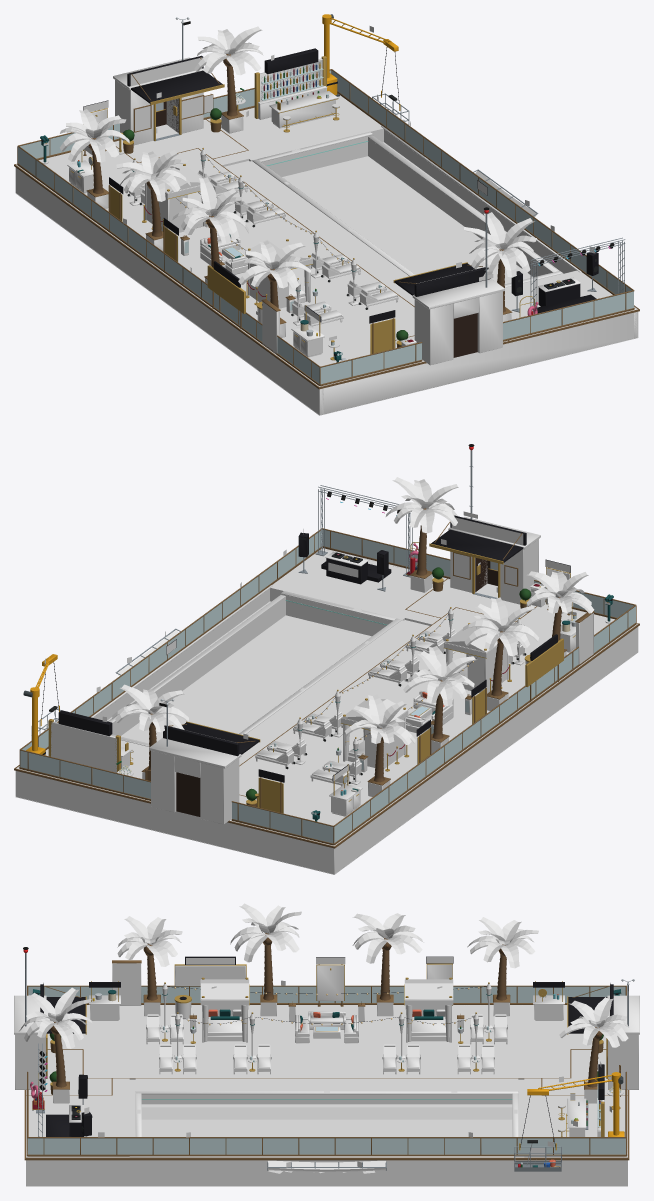
File: roof.glb
3 renders of one model, top to bottom at view 1: azimuth 30°, elevation 25°; view 2: azimuth 150°, elevation 25°; view 3: azimuth 270°, elevation 25°, orthographic.
Parts seen in each view (by area): view 1: S_tile_concrete, S_tile_teak, S_cut, S_glass, S_metal, S_tile_mosaic, S_tile_travertine, S_satin, S_tile_bronze, S_tile_linen, S_tile_granite, S_signs (+7 smaller); view 2: S_tile_concrete, S_tile_teak, S_cut, S_glass, S_metal, S_tile_mosaic, S_tile_travertine, S_satin, S_tile_bronze, S_tile_linen, S_tile_granite, S_signs (+5 smaller); view 3: S_tile_teak, S_tile_concrete, S_glass, S_tile_mosaic, S_cut, S_tile_travertine, S_metal, S_tile_linen, S_satin, S_tile_bronze, S_matte, S_metal_n (+7 smaller).
Boxes of the visible parts, box(x1,y1,x2,y2) form: S_tile_concrete: box(15, 57, 638, 415); S_tile_teak: box(16, 95, 637, 386); S_cut: box(59, 26, 595, 288); S_glass: box(18, 70, 633, 384); S_metal: box(14, 17, 639, 389); S_tile_mosaic: box(262, 135, 552, 283); S_tile_travertine: box(114, 120, 589, 363); S_satin: box(40, 14, 614, 362); S_tile_bronze: box(83, 58, 502, 365); S_tile_linen: box(132, 104, 397, 320); S_tile_granite: box(41, 114, 575, 357); S_signs: box(43, 57, 537, 358); S_tile_concrete: box(15, 516, 638, 874); S_tile_teak: box(16, 548, 637, 846); S_cut: box(44, 477, 594, 748); S_glass: box(20, 529, 635, 843); S_metal: box(14, 450, 639, 848); S_tile_mosaic: box(112, 594, 391, 743); S_tile_travertine: box(91, 579, 535, 822); S_satin: box(23, 444, 613, 821); S_tile_bronze: box(51, 539, 570, 824); S_tile_linen: box(130, 609, 521, 780); S_tile_granite: box(94, 583, 612, 816); S_signs: box(115, 511, 610, 817); S_tile_teak: box(26, 1004, 627, 1157); S_tile_concrete: box(14, 963, 639, 1186); S_glass: box(27, 986, 625, 1154); S_tile_mosaic: box(141, 1094, 512, 1136); S_cut: box(19, 903, 628, 1173); S_tile_travertine: box(26, 1049, 627, 1157); S_metal: box(24, 953, 634, 1170); S_tile_linen: box(147, 979, 565, 1131); S_satin: box(23, 947, 624, 1171); S_tile_bronze: box(15, 964, 638, 1136); S_matte: box(32, 933, 602, 1167); S_metal_n: box(25, 969, 632, 1166).
Size of the model in its own units: 22.55 by 10.01 by 34.4.
